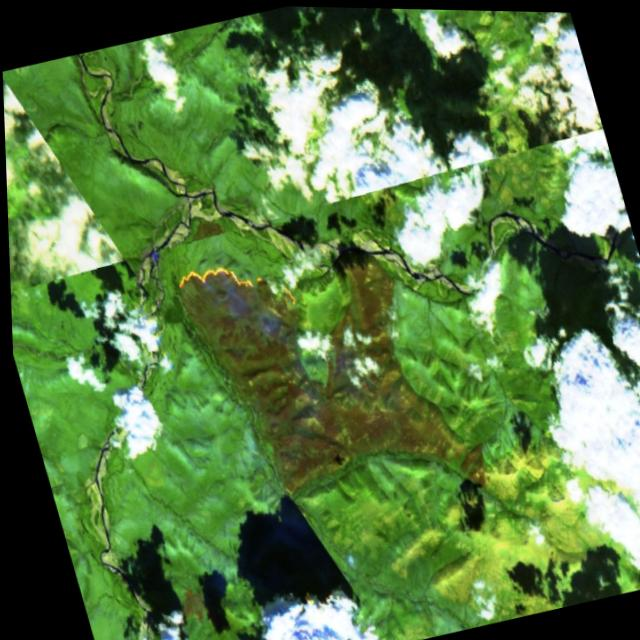fire: (155, 223, 301, 340)
